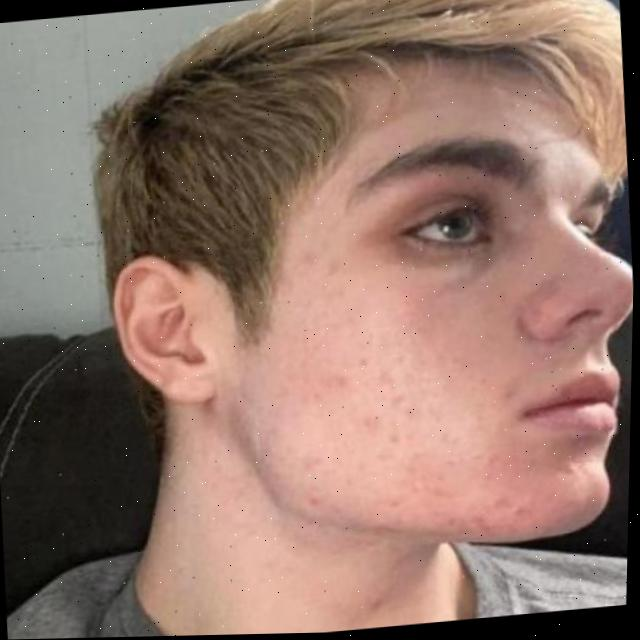Acne: (271, 352, 533, 517)
